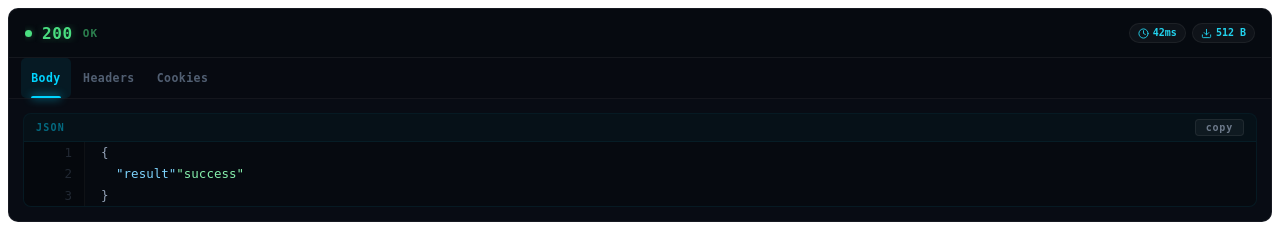
Test: ResponsePanel — tab interaction › shows headers when Headers tab is clicked
The image size is (1280, 239).
Click the button "Headers" at (109, 78), box [73,58,145,98]
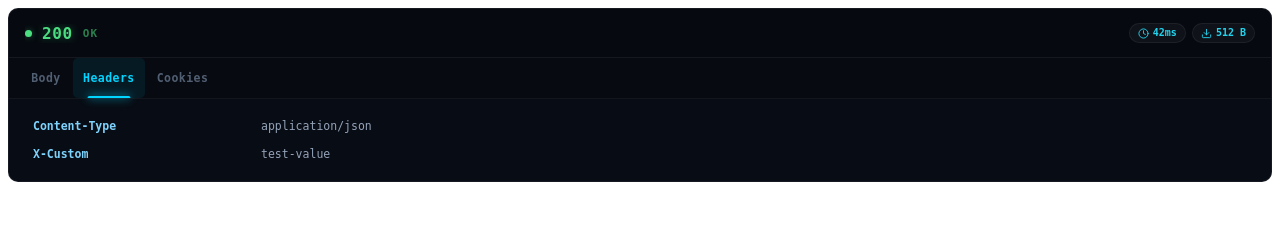
Expected: the text "Content-Type" is shown, [33,119,116,133]
Expected: the text "application/json" is shown, [261,119,372,133]
Expected: the text "X-Custom" is shown, [33,147,88,161]
